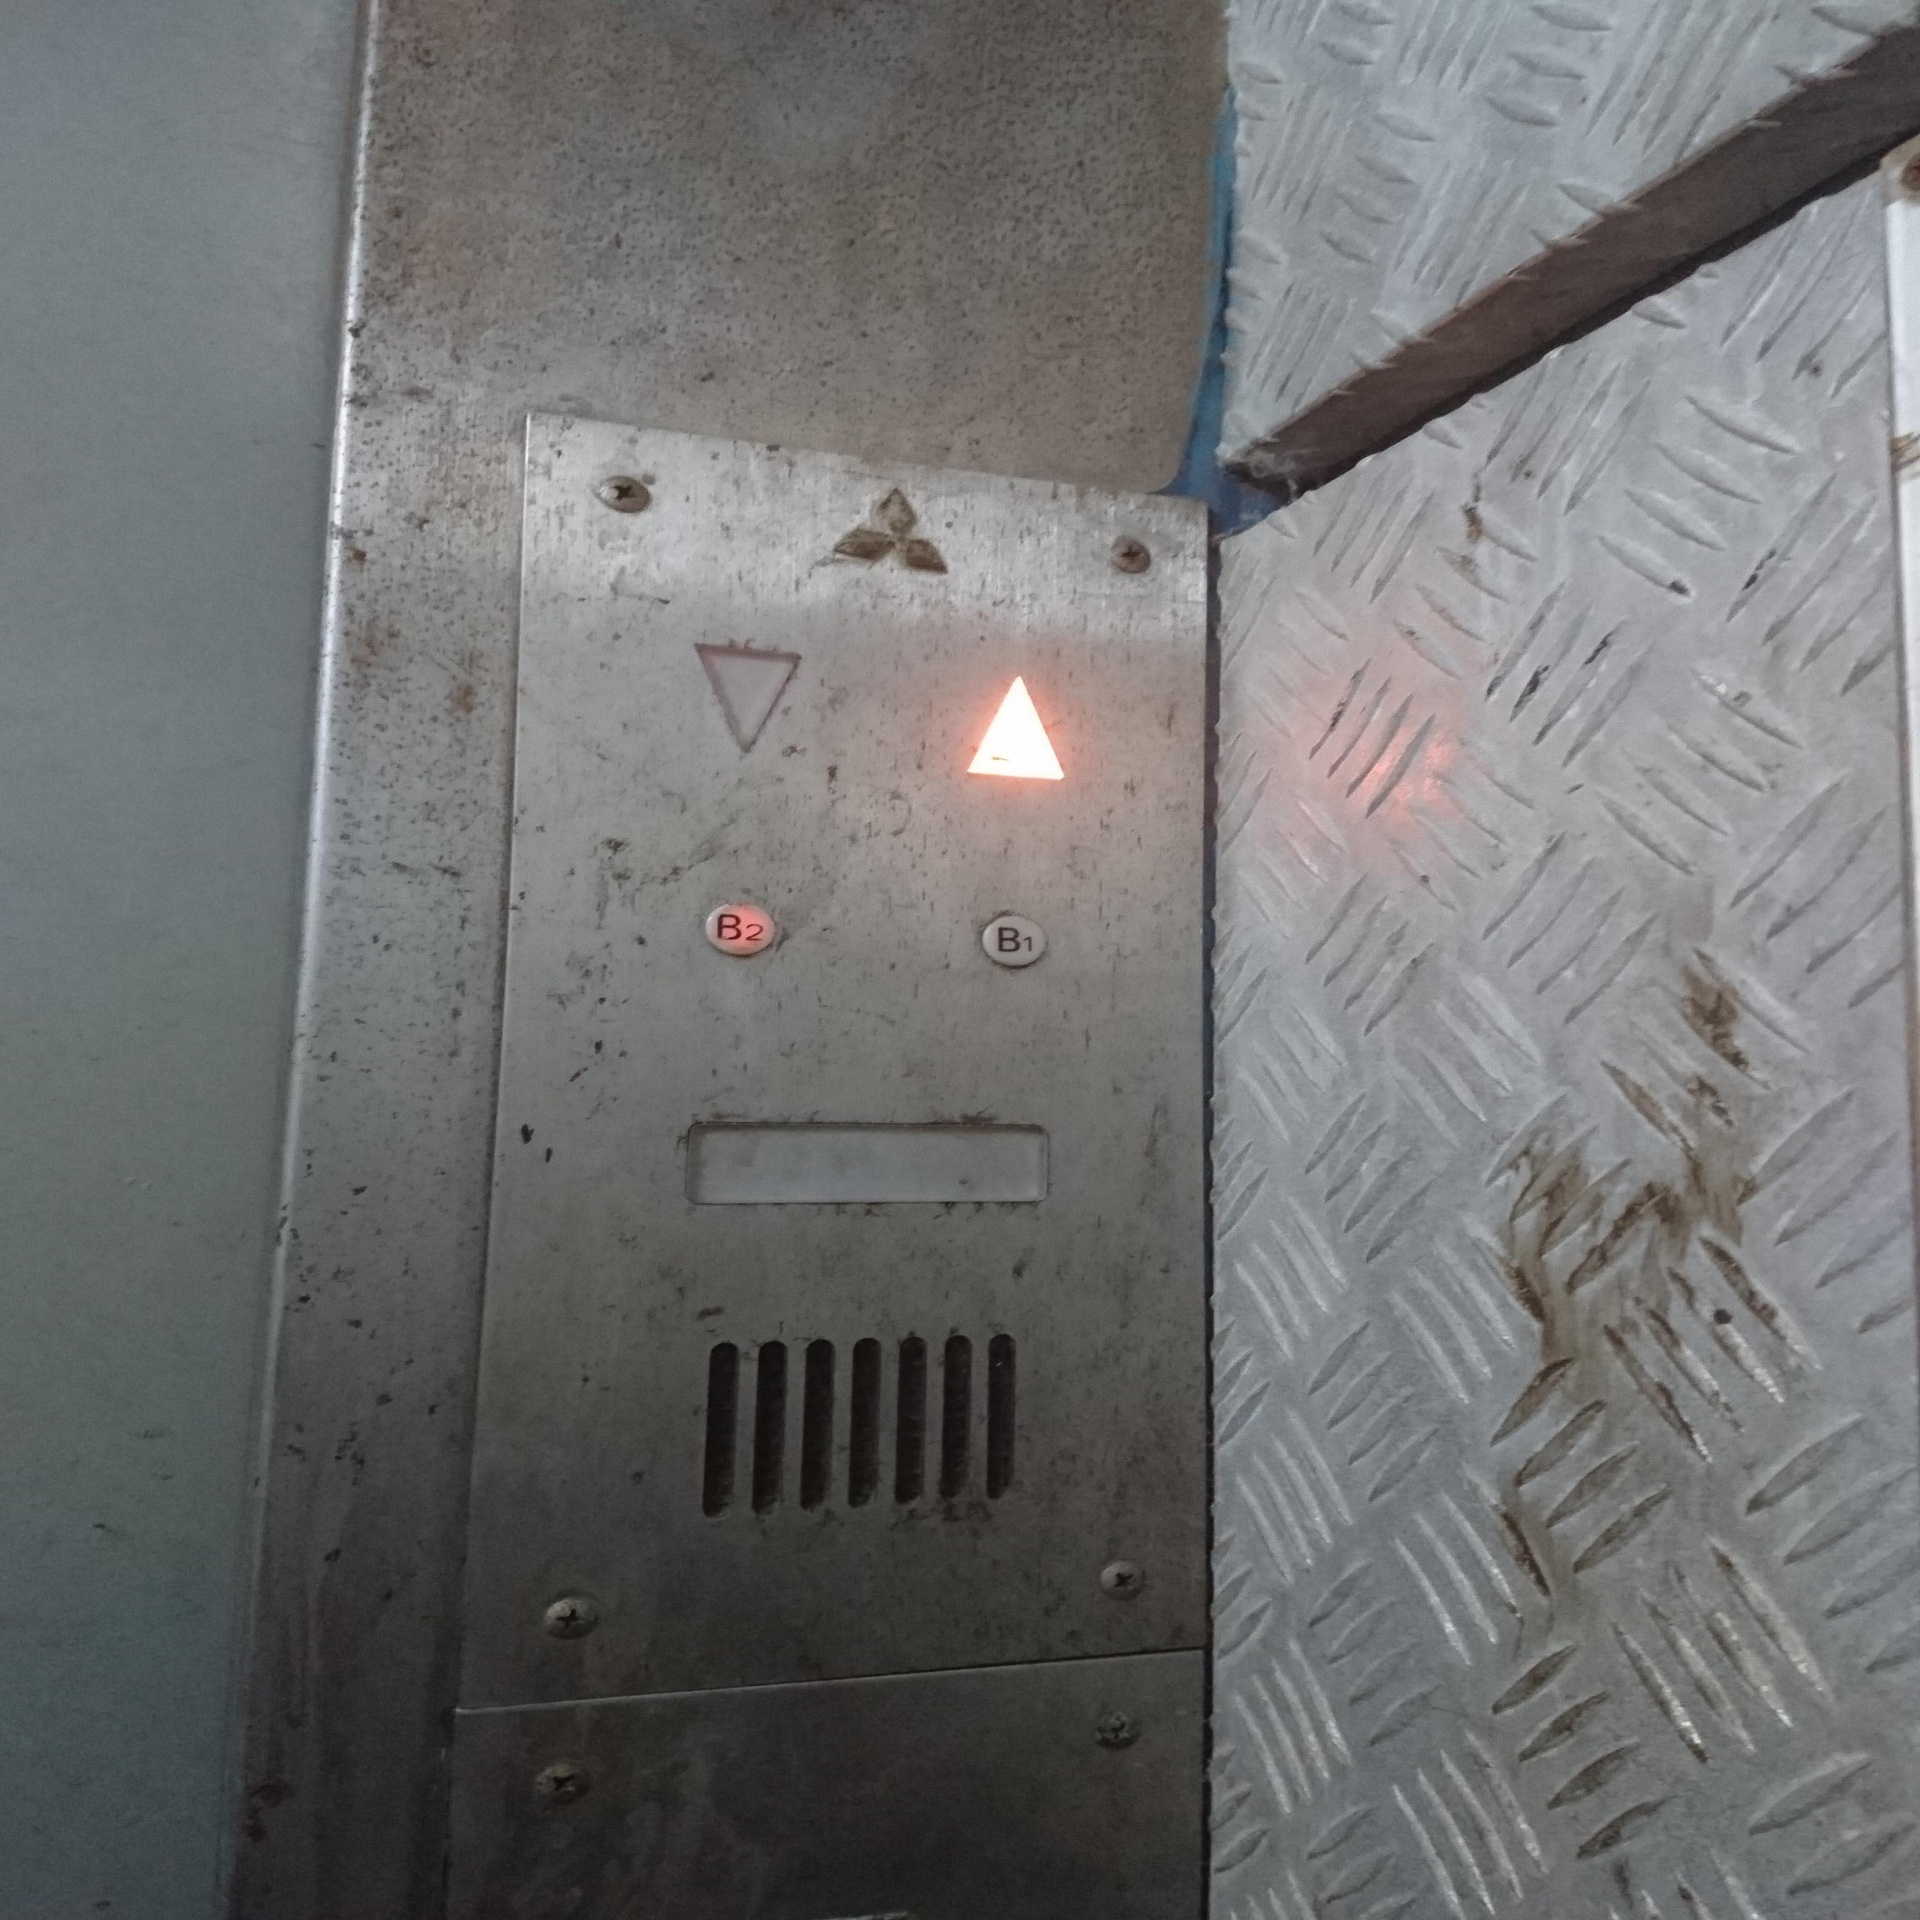B1: (978, 909, 1050, 971)
B2: (702, 897, 781, 962)
